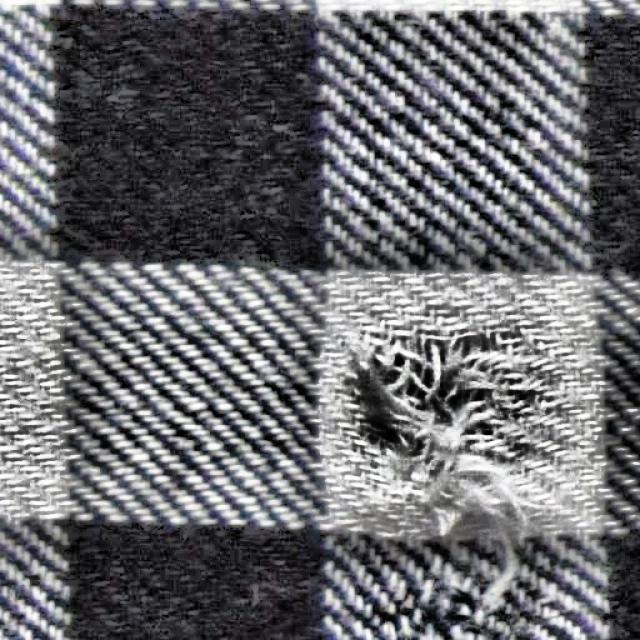cut: (311, 290, 570, 640)
